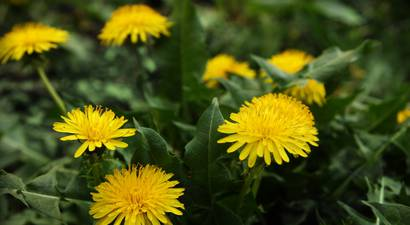dandelion: (100, 167, 175, 225), (240, 93, 305, 159), (47, 104, 132, 148), (98, 10, 168, 43), (7, 27, 64, 59)
